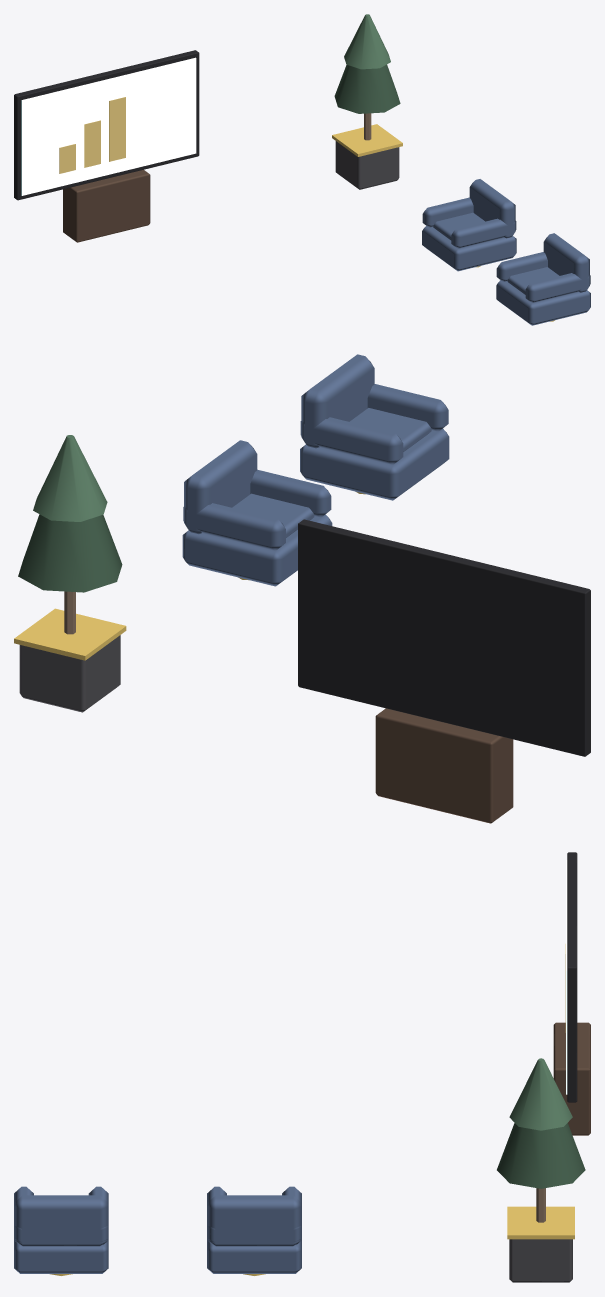
File: einrichtung_boardroom_buehne.glb
3 renders of one model, top to bottom at view 1: azimuth 30°, elevation 25°; view 2: azimuth 150°, elevation 25°; view 3: azimuth 270°, elevation 25°, orthographic. The views are drawn at different scales.
Parts seen in each view (by area): view 1: einrichtung_boardroom_buehne; view 2: einrichtung_boardroom_buehne; view 3: einrichtung_boardroom_buehne.
Boxes of the visible parts, x1=… form: einrichtung_boardroom_buehne: x1=14, y1=14, x2=590, y2=325; einrichtung_boardroom_buehne: x1=14, y1=354, x2=590, y2=823; einrichtung_boardroom_buehne: x1=14, y1=852, x2=590, y2=1282.
Bounding box in the file's own units: 4.46 × 1.87 × 4.63.
